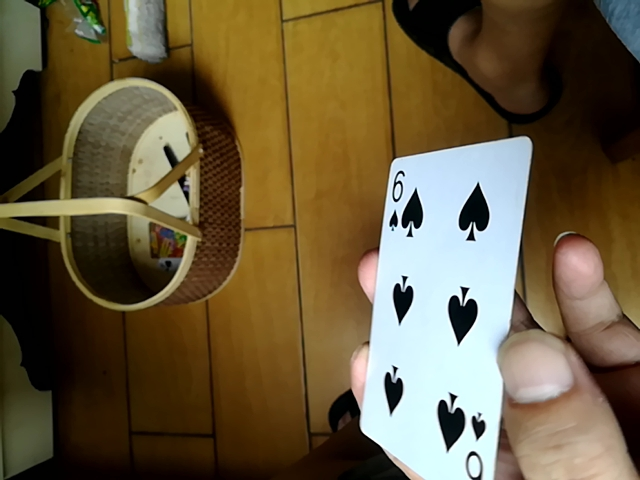ht 6: (358, 135, 532, 477)
